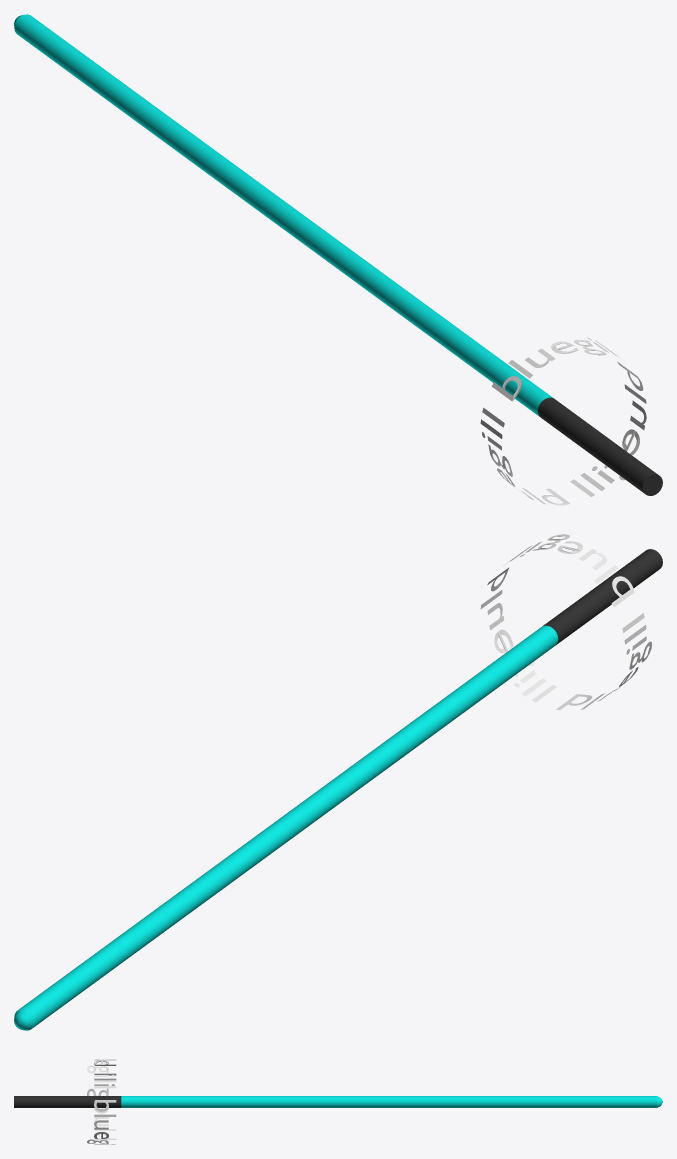
The model's file is bluegill saber.fbx.
3 renders of one model, top to bottom at view 1: azimuth 30°, elevation 25°; view 2: azimuth 150°, elevation 25°; view 3: azimuth 270°, elevation 25°, orthographic. The views are drawn at different scales.
Parts seen in each view (by area): view 1: Saber; view 2: Saber; view 3: Saber.
Part boxes in pixels (bbox=[...]): Saber: bbox=[14, 14, 662, 505]; Saber: bbox=[14, 534, 662, 1030]; Saber: bbox=[14, 1059, 662, 1144].
Size of the model in its own units: 15.99 by 15.98 by 121.
